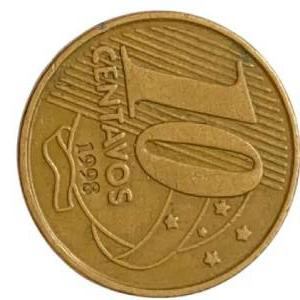10 cent: (15, 9, 299, 298)
